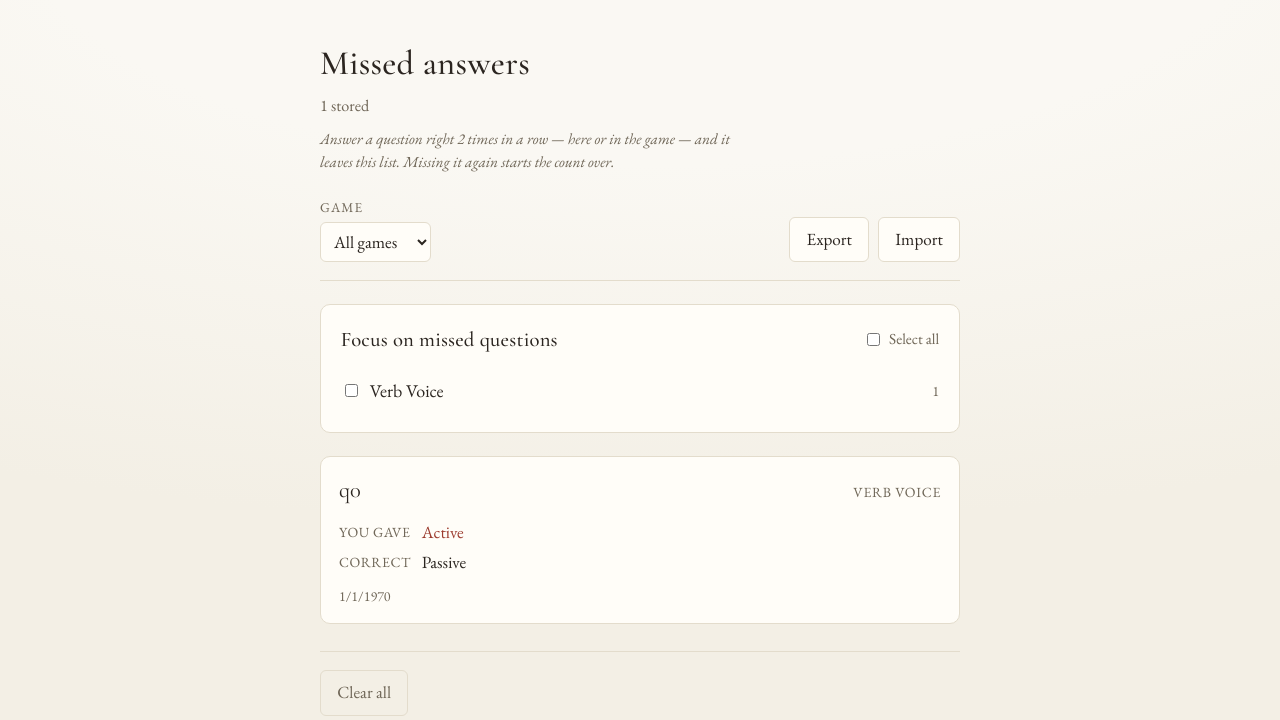
Review › wipes both the misses and the counts once confirmed
Click the button "Clear all".
click(364, 693)  # box [320,670,408,716]
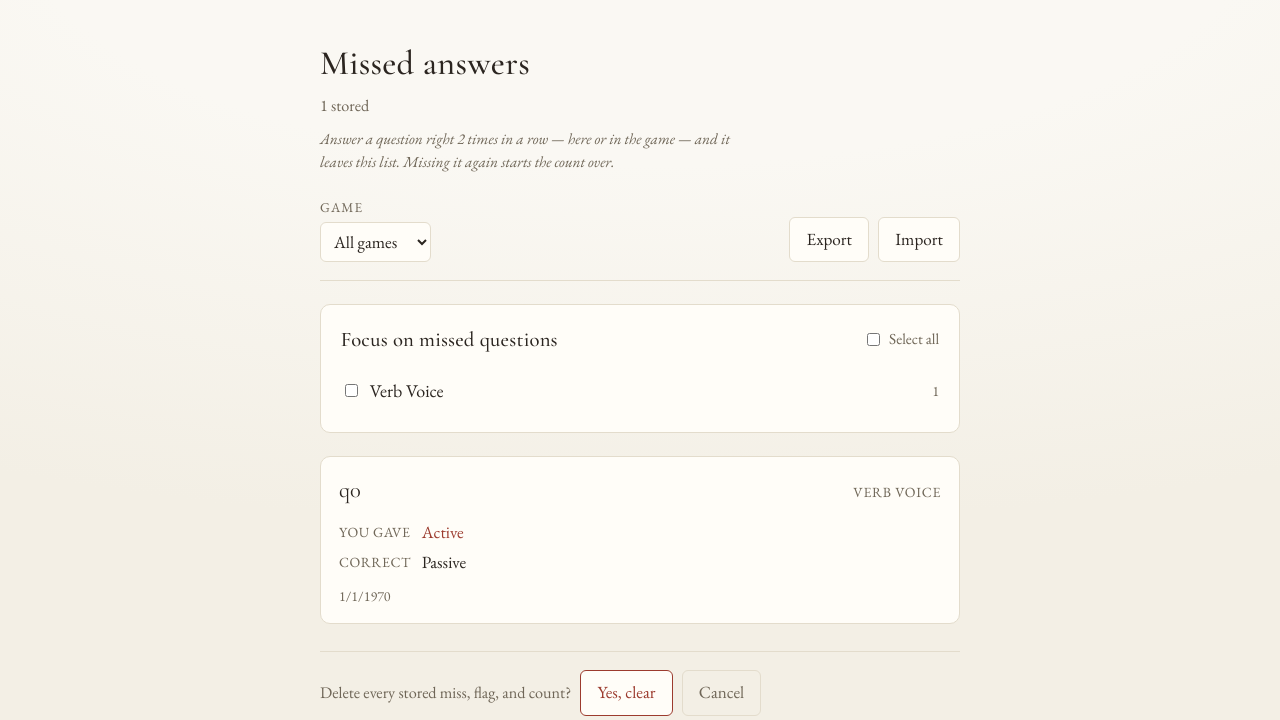
Click the button "Yes, clear".
click(626, 693)  # box [580,670,673,716]
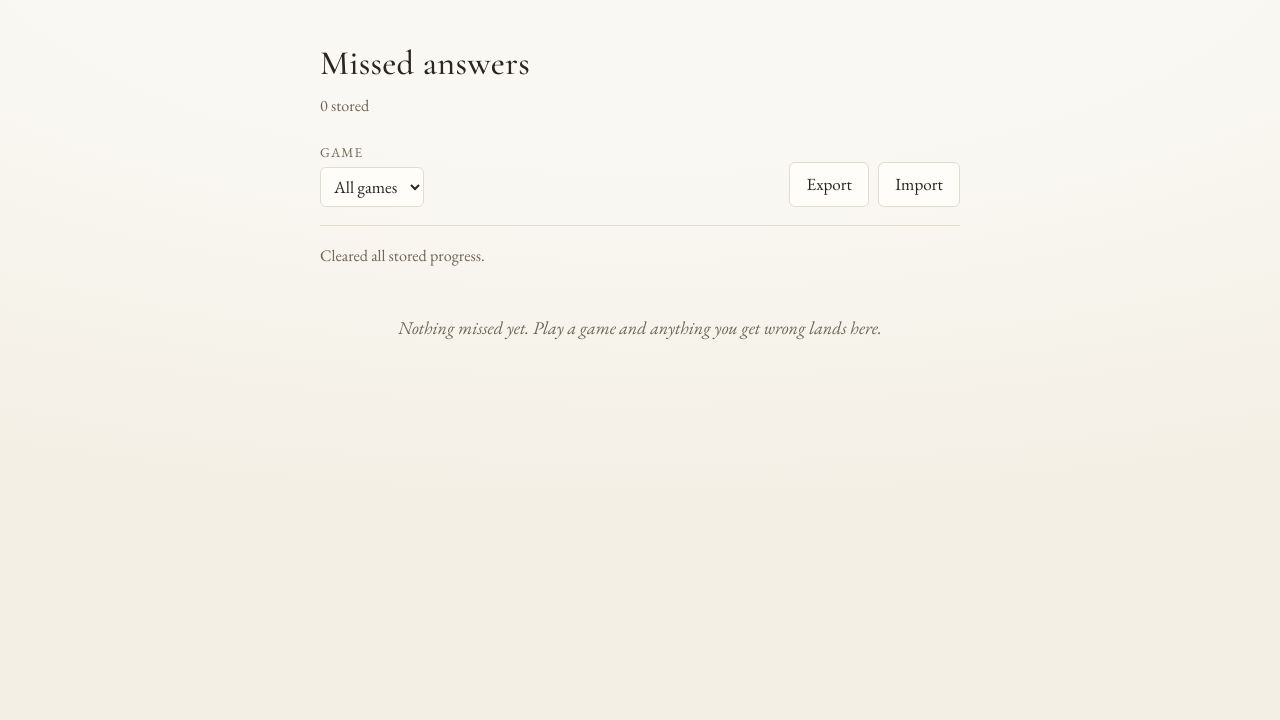
Expected: the text with class "review__empty" shows "Nothing missed yet", [398,316,882,338]
